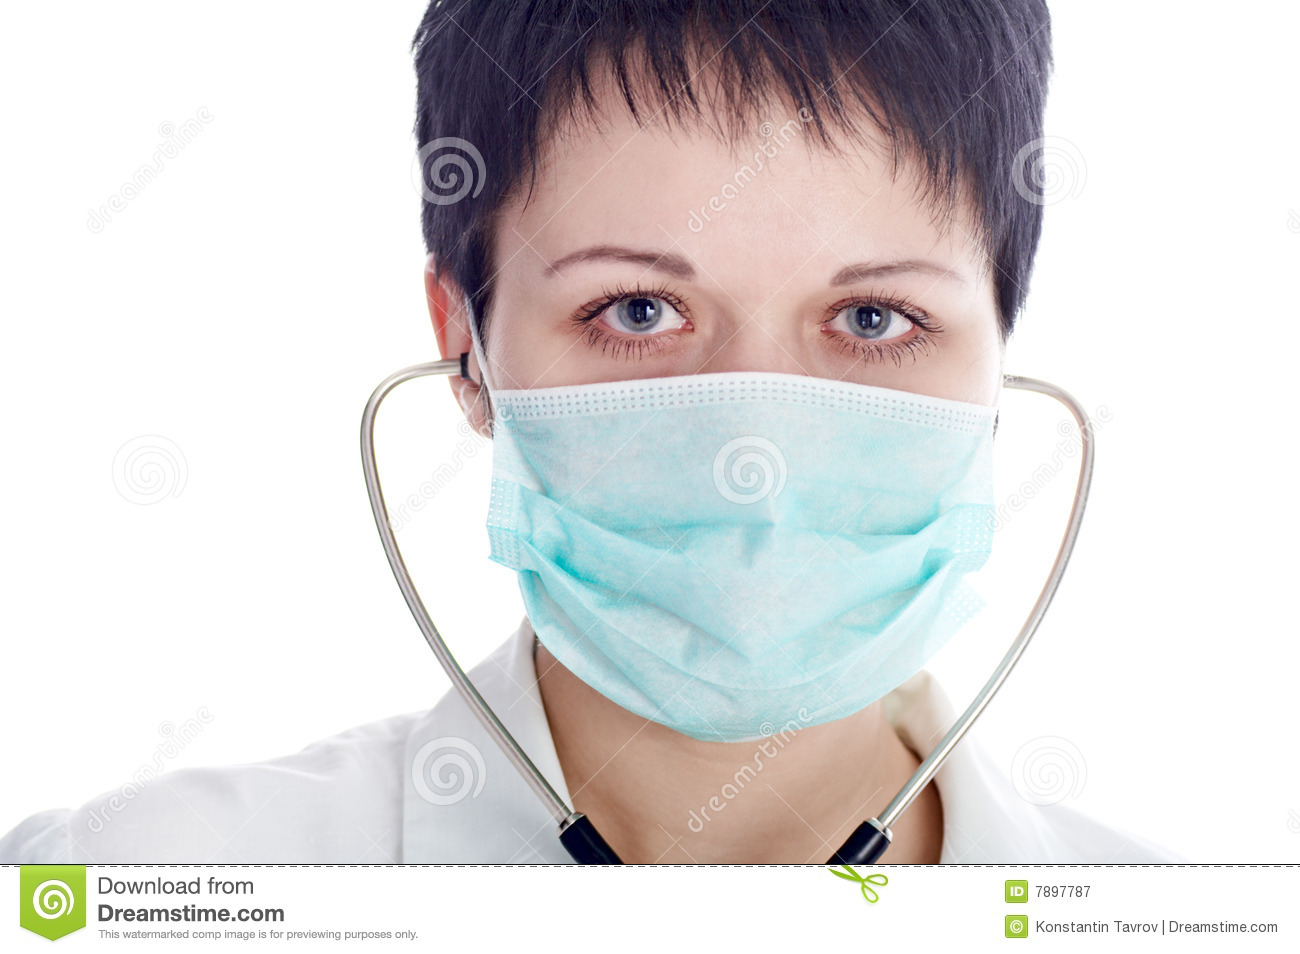mask: (486, 372, 1016, 762)
